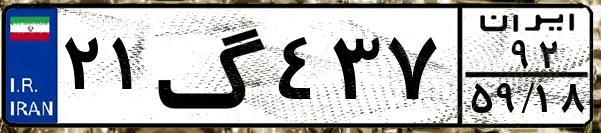1: (110, 28, 156, 98), (535, 70, 560, 125)
2: (57, 26, 110, 100), (537, 27, 568, 80)
3: (330, 28, 385, 110)
4: (270, 28, 330, 110)
5: (470, 70, 495, 125)
7: (385, 28, 445, 110)
8: (560, 70, 590, 125)
9: (508, 27, 537, 80), (495, 70, 520, 125)
گ: (156, 12, 270, 120)
